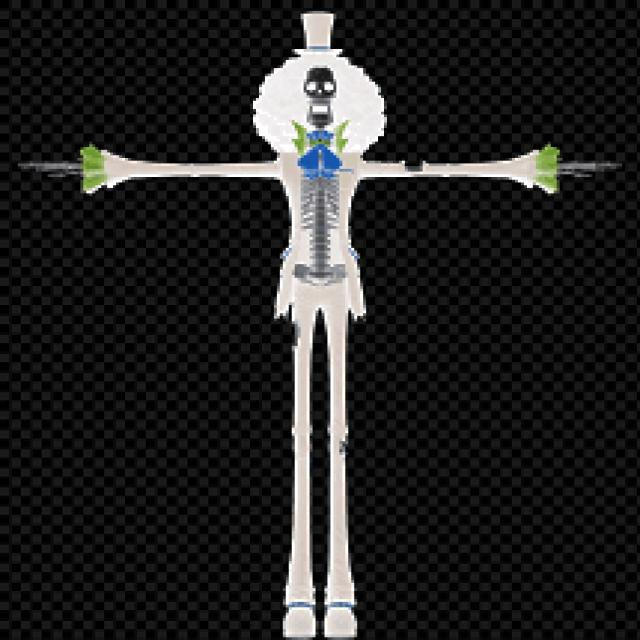Brook: (80, 14, 560, 640)
